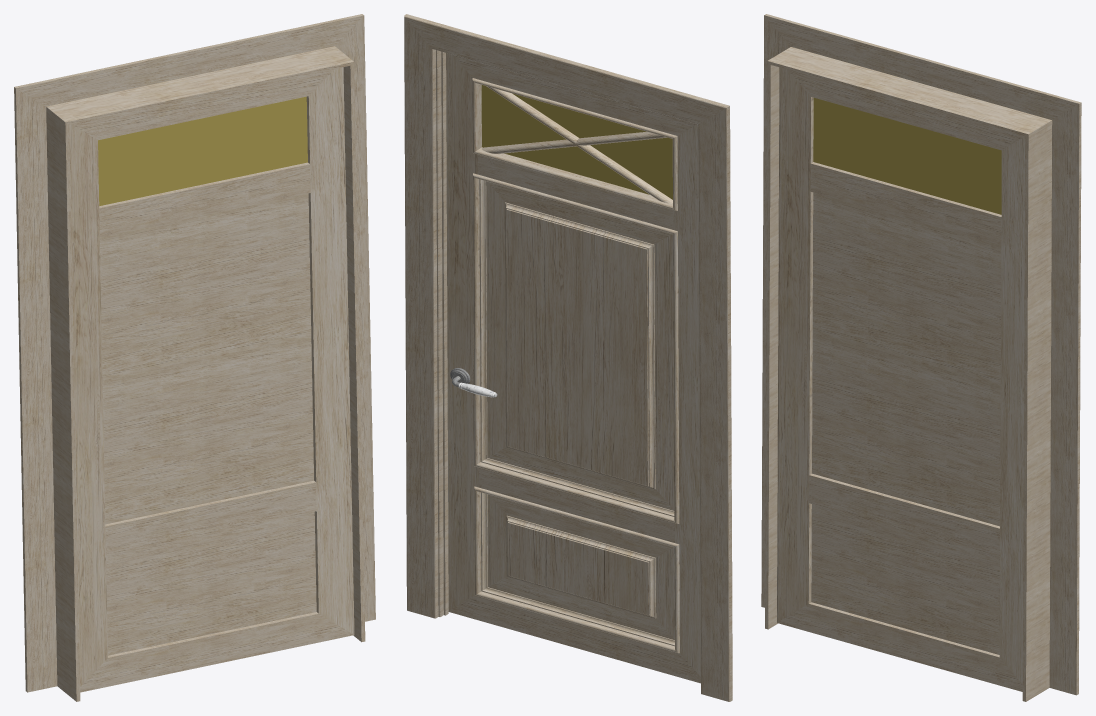
The model's file is Puerta.obj.
3 views of the same model, side by side, from view 1: azimuth 30°, elevation 25°; view 2: azimuth 150°, elevation 25°; view 3: azimuth 330°, elevation 25° (orthographic). The views are drawn at different scales.
Parts seen in each view (by area): view 1: Object_color_0_734118_0_655686_0_338824_jpg1; view 2: Object_color_0_734118_0_655686_0_338824_jpg1; view 3: Object_color_0_734118_0_655686_0_338824_jpg1.
Part boxes in pixels (x1,y1,x2,y2): Object_color_0_734118_0_655686_0_338824_jpg1: [14, 14, 375, 701]; Object_color_0_734118_0_655686_0_338824_jpg1: [404, 14, 732, 701]; Object_color_0_734118_0_655686_0_338824_jpg1: [761, 14, 1081, 701].
Bounding box in the file's own units: 3.62 × 6.1 × 0.7944.
4 materials, 4 textured.
